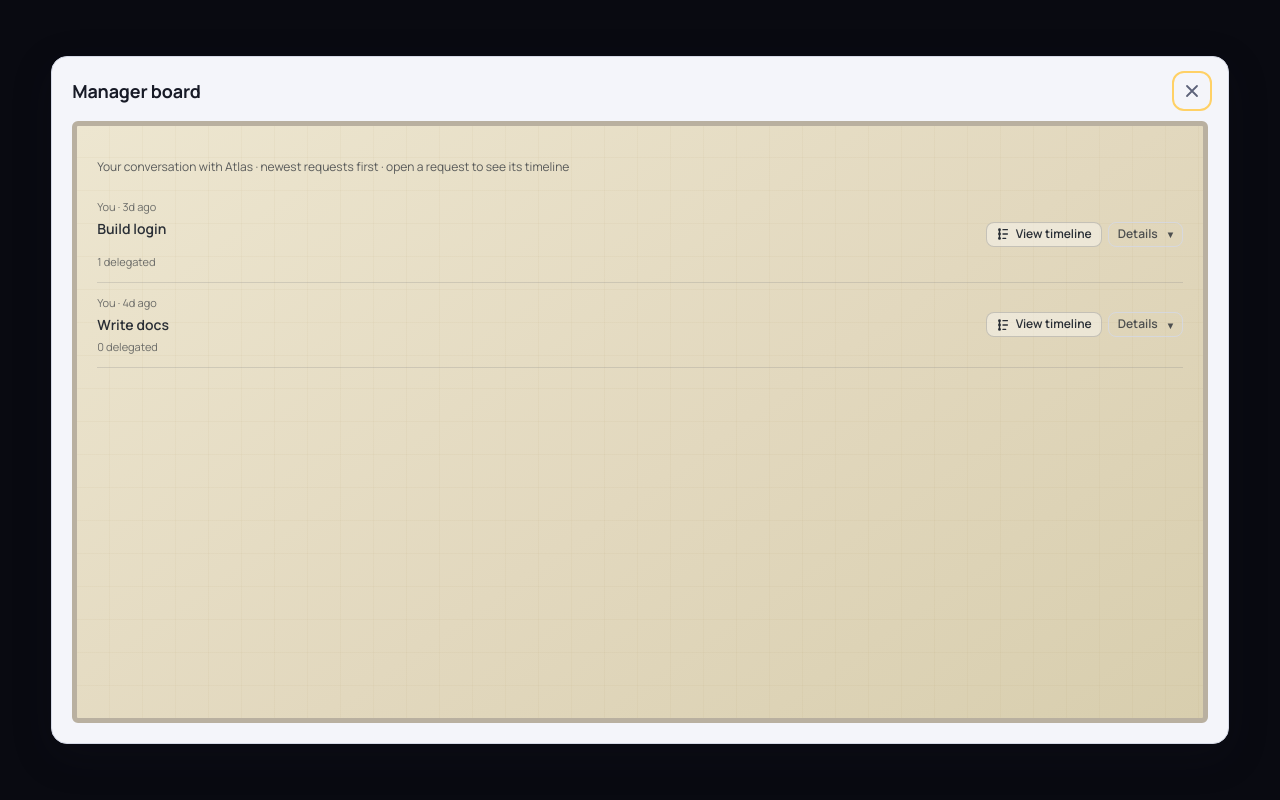
Test: Manager board › each request row has a visible View timeline button that opens its workflow with that request's steps
Click the 1st button with test id "manager-view-timeline". click: [1044, 234]
box: [986,222,1102,247]
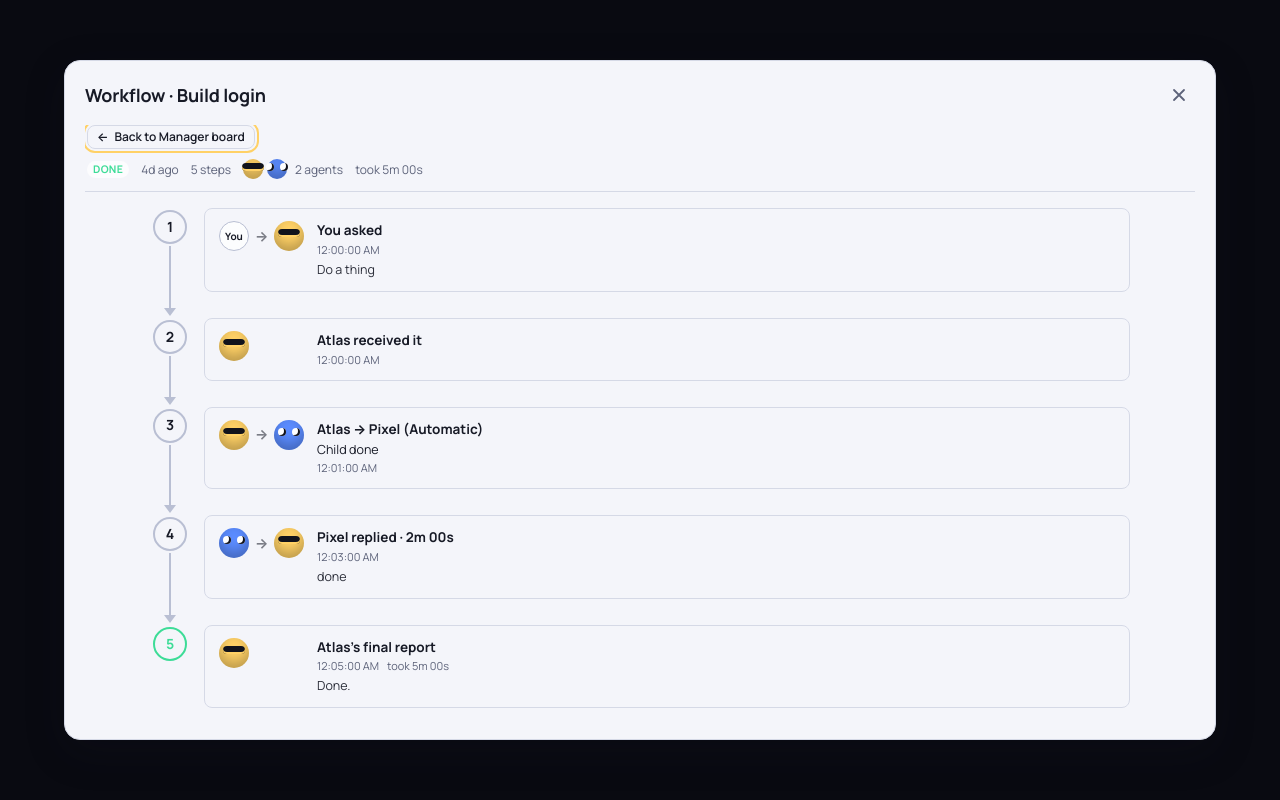
Check: the list item with test id "wf-step" shows "You asked", box [317,221,382,241]
Check: the element with test id "manager-board" is gone
